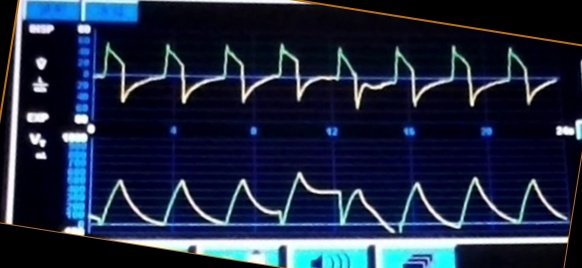Premature_cycling Flow: (98, 40, 556, 118)
Premature_cycling Volume: (94, 159, 564, 234)
